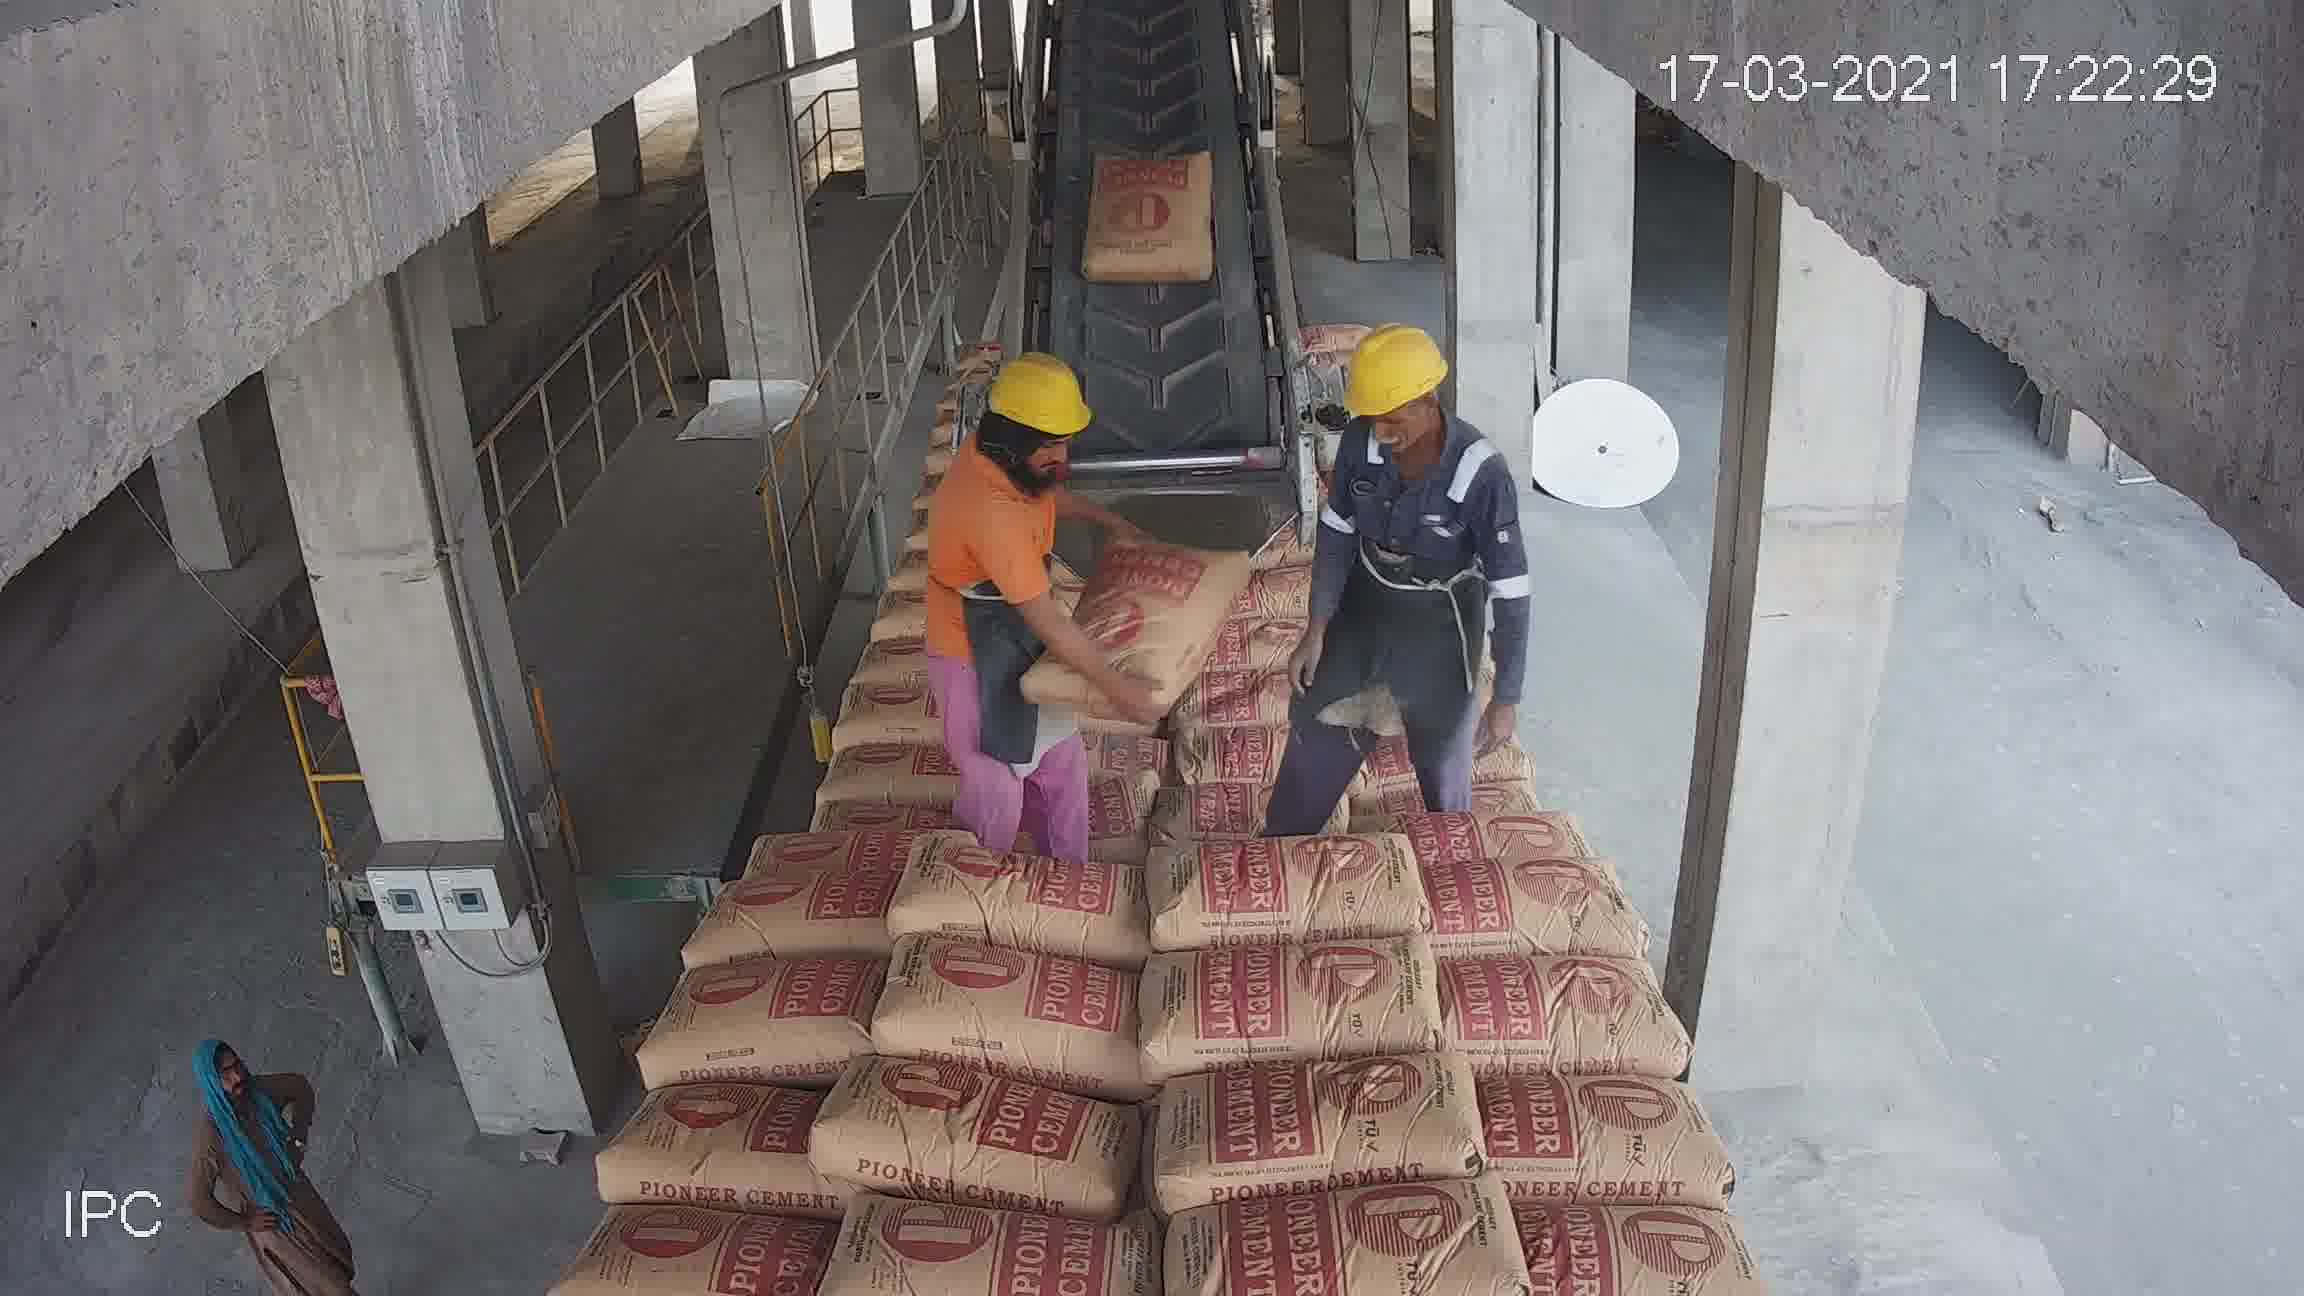bag: (1092, 155, 1226, 282)
bag_h: (1165, 1029, 1468, 1211), (1155, 1173, 1514, 1296), (820, 1060, 1144, 1193), (1131, 824, 1426, 953), (1489, 1063, 1714, 1223), (600, 1060, 836, 1206), (641, 942, 867, 1081), (820, 1196, 1150, 1291), (1143, 722, 1399, 837), (1146, 650, 1377, 771), (880, 956, 1125, 1067), (557, 1195, 813, 1291), (690, 853, 911, 964), (913, 848, 1139, 953), (1442, 859, 1639, 970), (1532, 1195, 1750, 1293), (932, 668, 1161, 760), (1481, 943, 1639, 1073), (1361, 680, 1563, 782), (1404, 763, 1576, 872), (728, 782, 919, 877), (752, 692, 930, 793), (916, 761, 1127, 845), (1173, 521, 1287, 581), (831, 649, 946, 707), (870, 571, 965, 638), (1079, 570, 1176, 627), (1146, 619, 1253, 668), (1070, 527, 1165, 579), (853, 641, 978, 677), (1173, 570, 1255, 622)
belt: (1013, 19, 1269, 437), (1130, 945, 1448, 1071)
